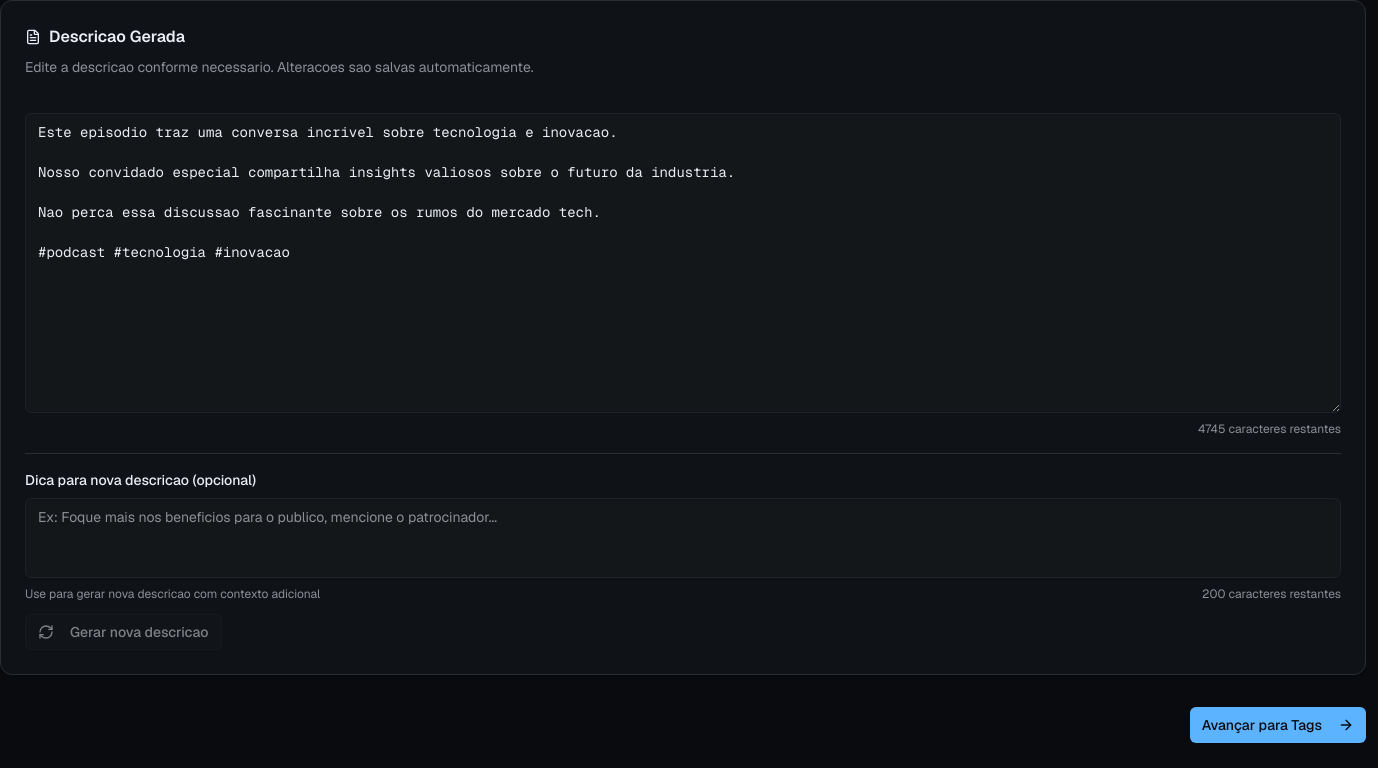
Test: Phase6Description › Description editing › updates character count as user types
Replace the text in the text box showing "Este episodio traz" with "Short": point(683, 263) [25,113,1341,413]
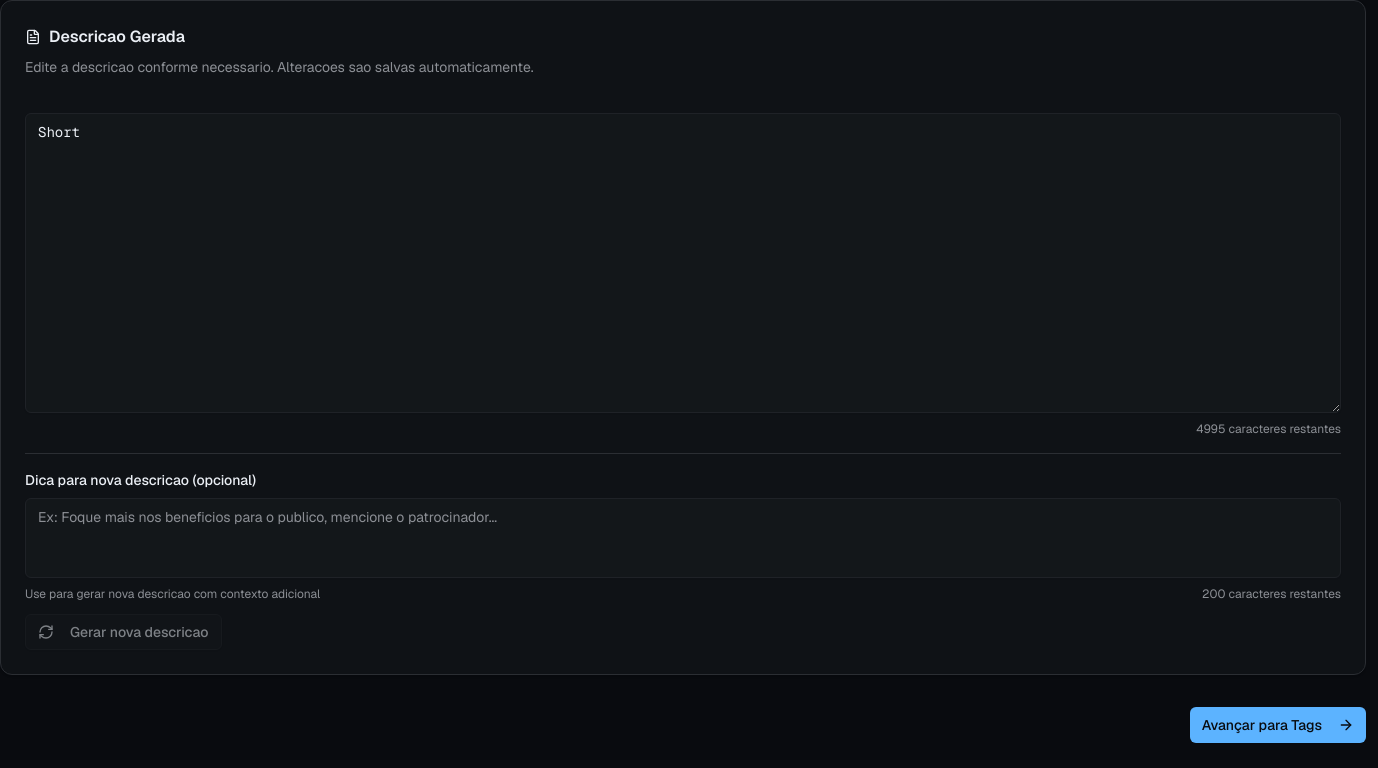
Now the text "4995 caracteres restantes" is shown, box [1196,421,1341,437]
